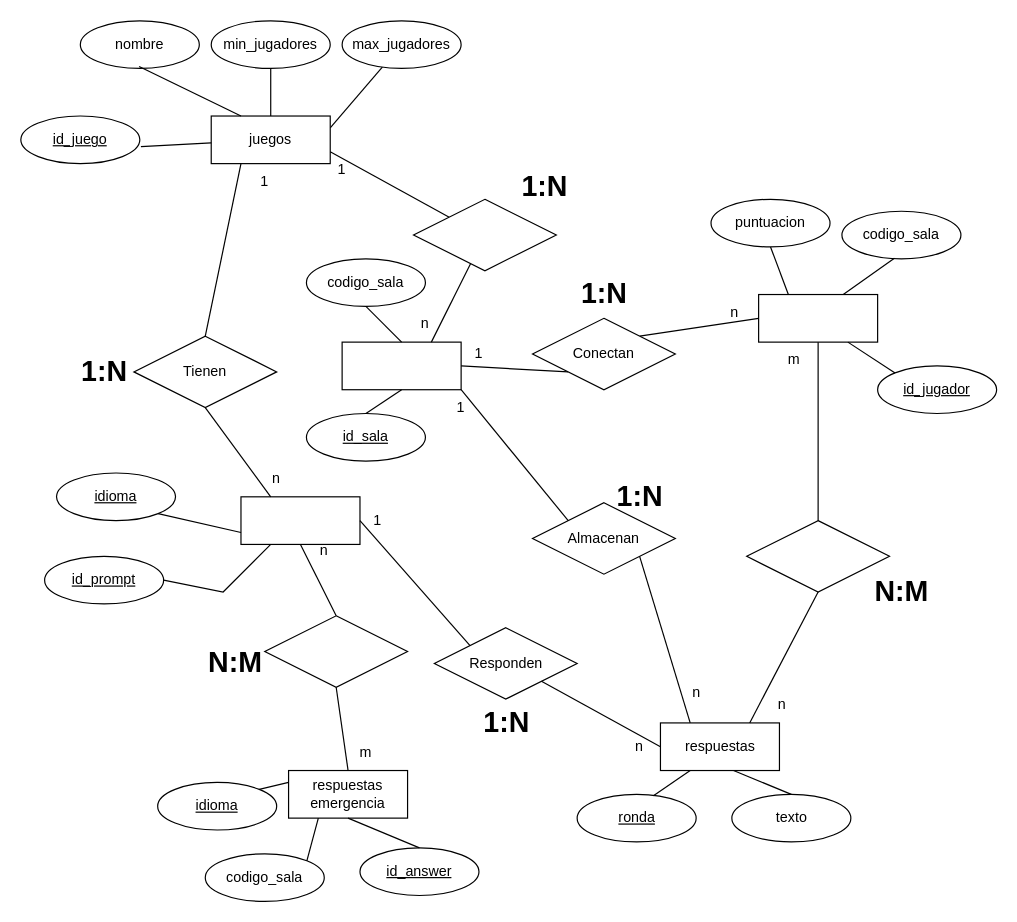
Image size: 1017x922. Some labels were removed from this diagram. The centre of each missing label's shape, as x and y in pixels:
Contiene: the point at 484,234
Contienen: the point at 336,651
Crean: the point at 818,555
jugadores: the point at 817,317
prompts: the point at 300,520
salas: the point at 401,365
